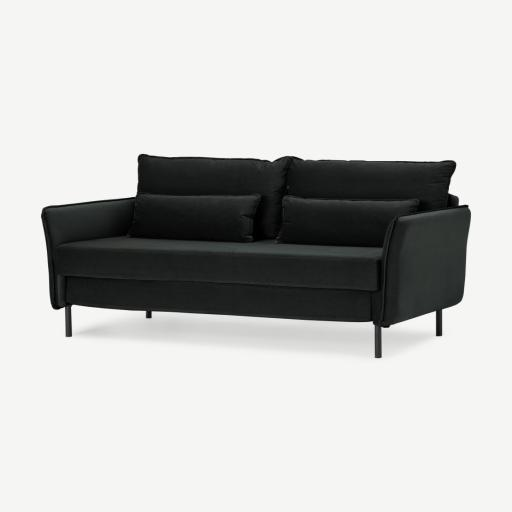back_cushion: (137, 155, 455, 239)
base: (67, 277, 372, 322)
left_arm: (379, 206, 470, 335)
legs: (64, 304, 72, 337), (375, 325, 382, 358), (436, 311, 442, 325), (145, 311, 151, 318)
right_arm: (42, 198, 134, 309)
seat_cushion: (57, 237, 381, 290)
two-seater: (0, 0, 511, 512)
